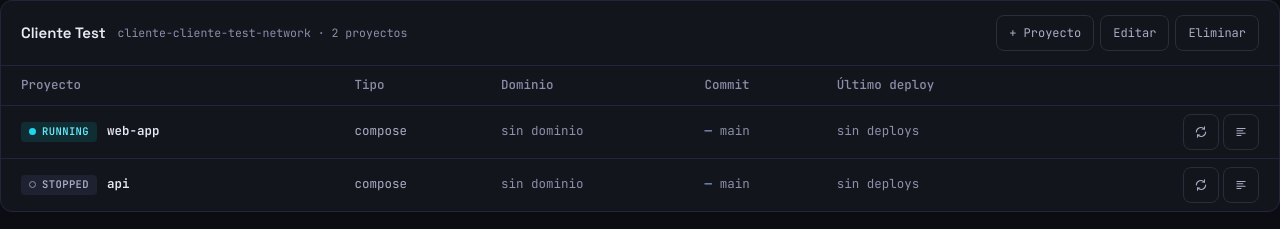
it: ClientSection › click en Cancelar cierra la confirmación de eliminar
The image size is (1280, 229).
Click the button "Eliminar" at (1217, 33), box top-left (1175, 15), bottom-right (1259, 51)
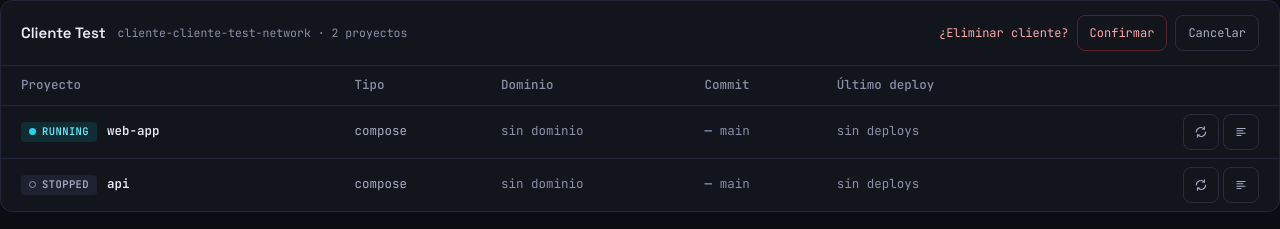
Click the button "Cancelar" at (1217, 33), box top-left (1175, 15), bottom-right (1259, 51)
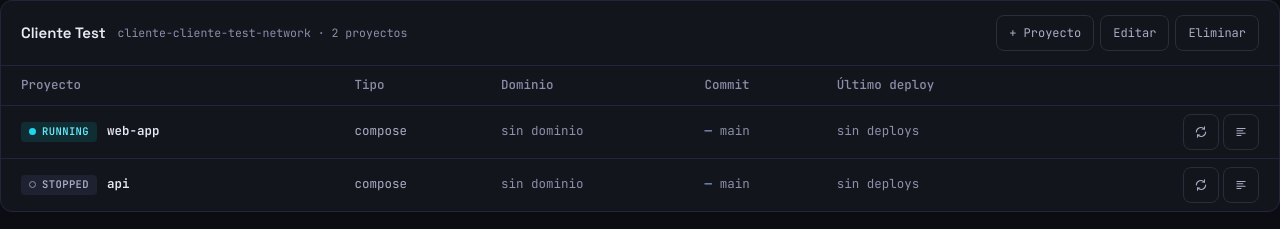
Now the text "¿Eliminar cliente?" is gone
Now the button "Eliminar" is shown, box top-left (1175, 15), bottom-right (1259, 51)
